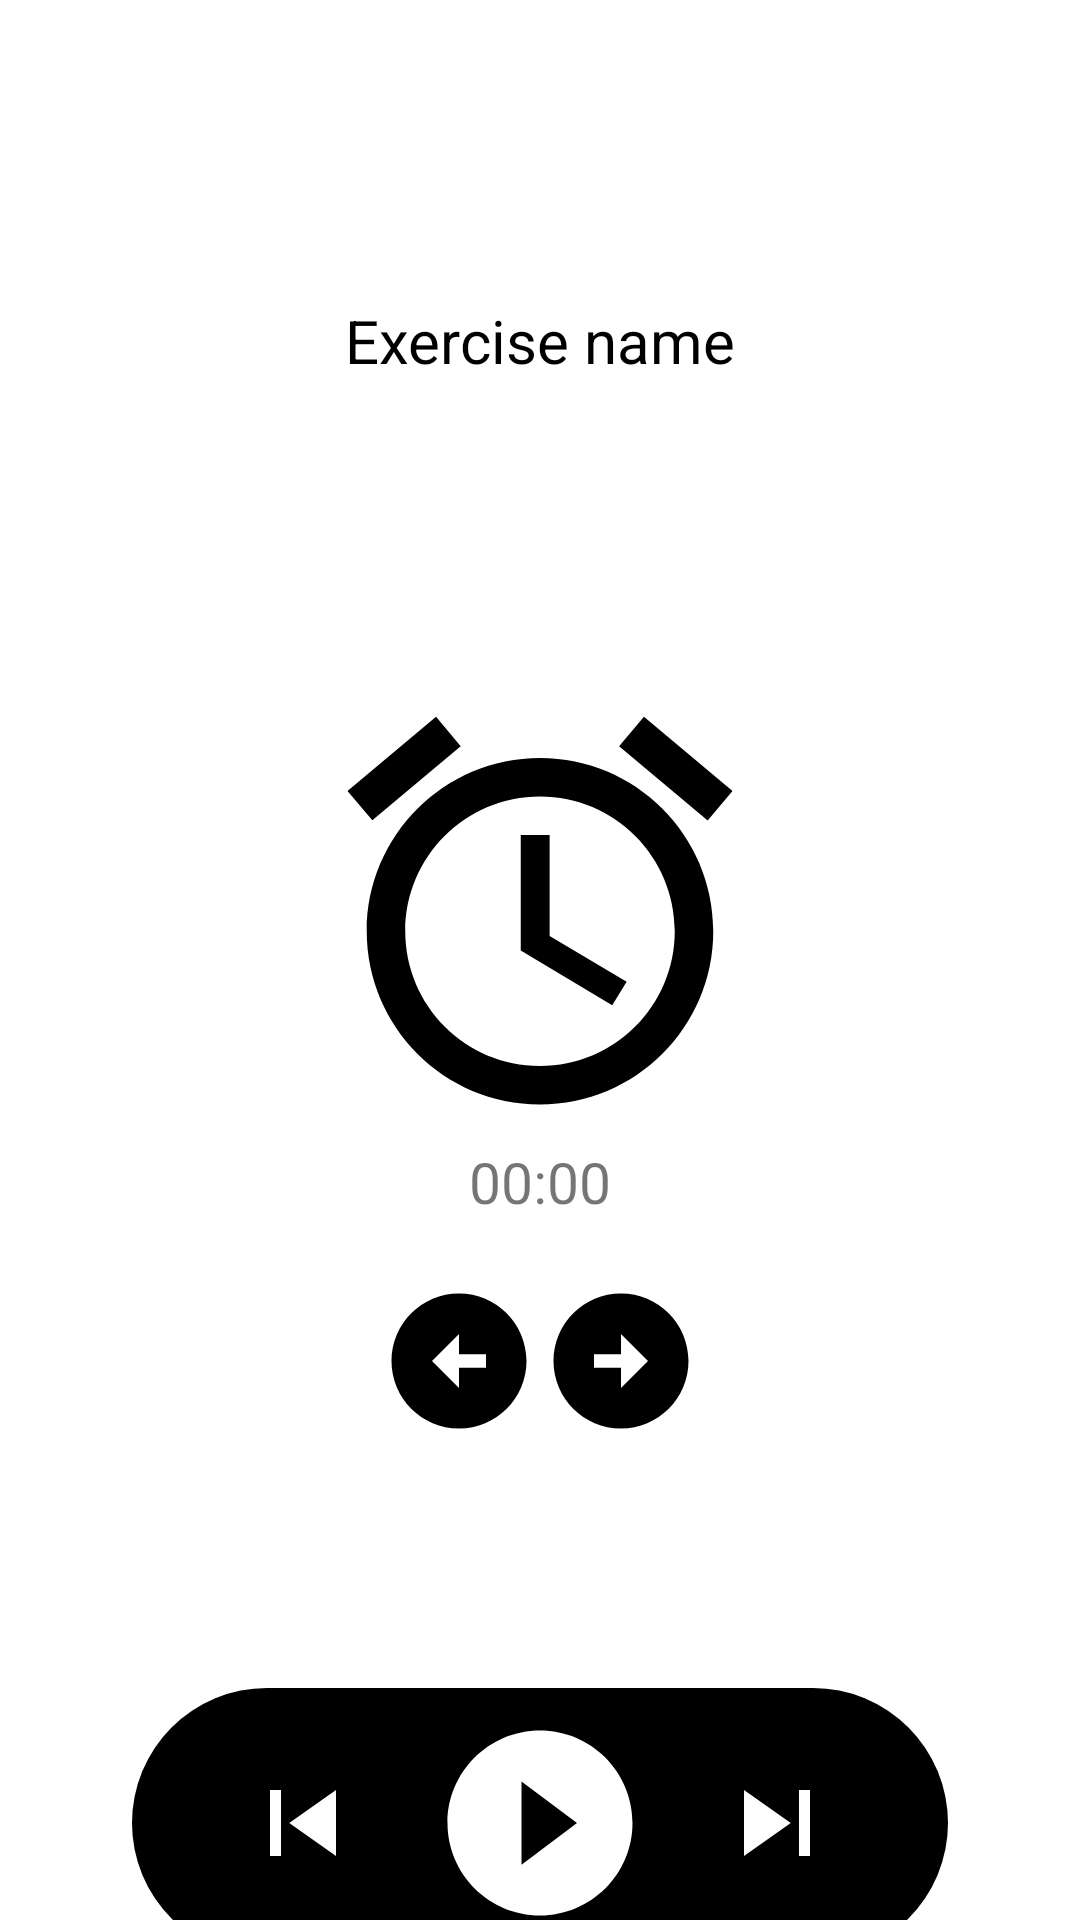

Where icons sit on this 1080 x 1920 app screen, as (x1, y1, x2, y2):
arrow circle left: (391, 1293, 527, 1429)
arrow circle right: (553, 1293, 689, 1429)
play: (447, 1730, 633, 1916)
skip next: (744, 1790, 810, 1856)
skip previous: (270, 1790, 336, 1856)
